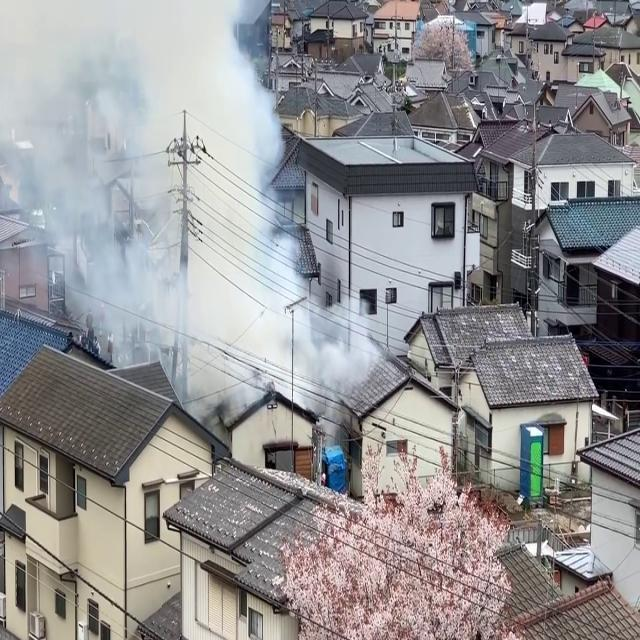Smoke: (2, 0, 370, 406)
